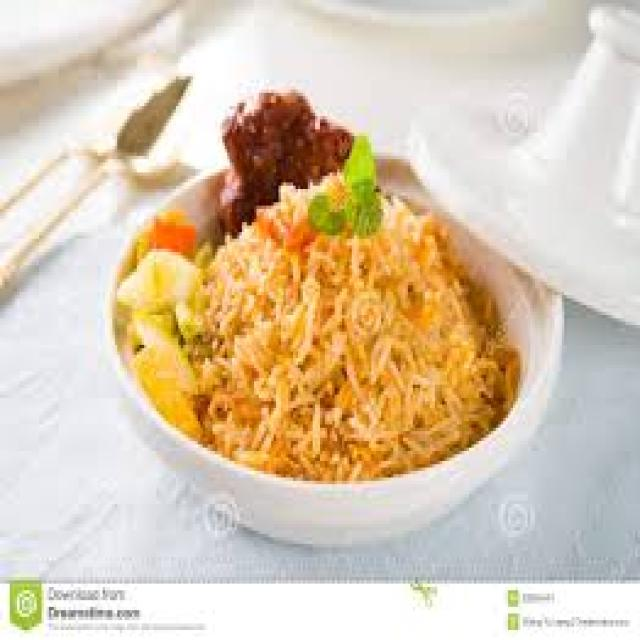Wet Waste: (194, 70, 517, 488)
